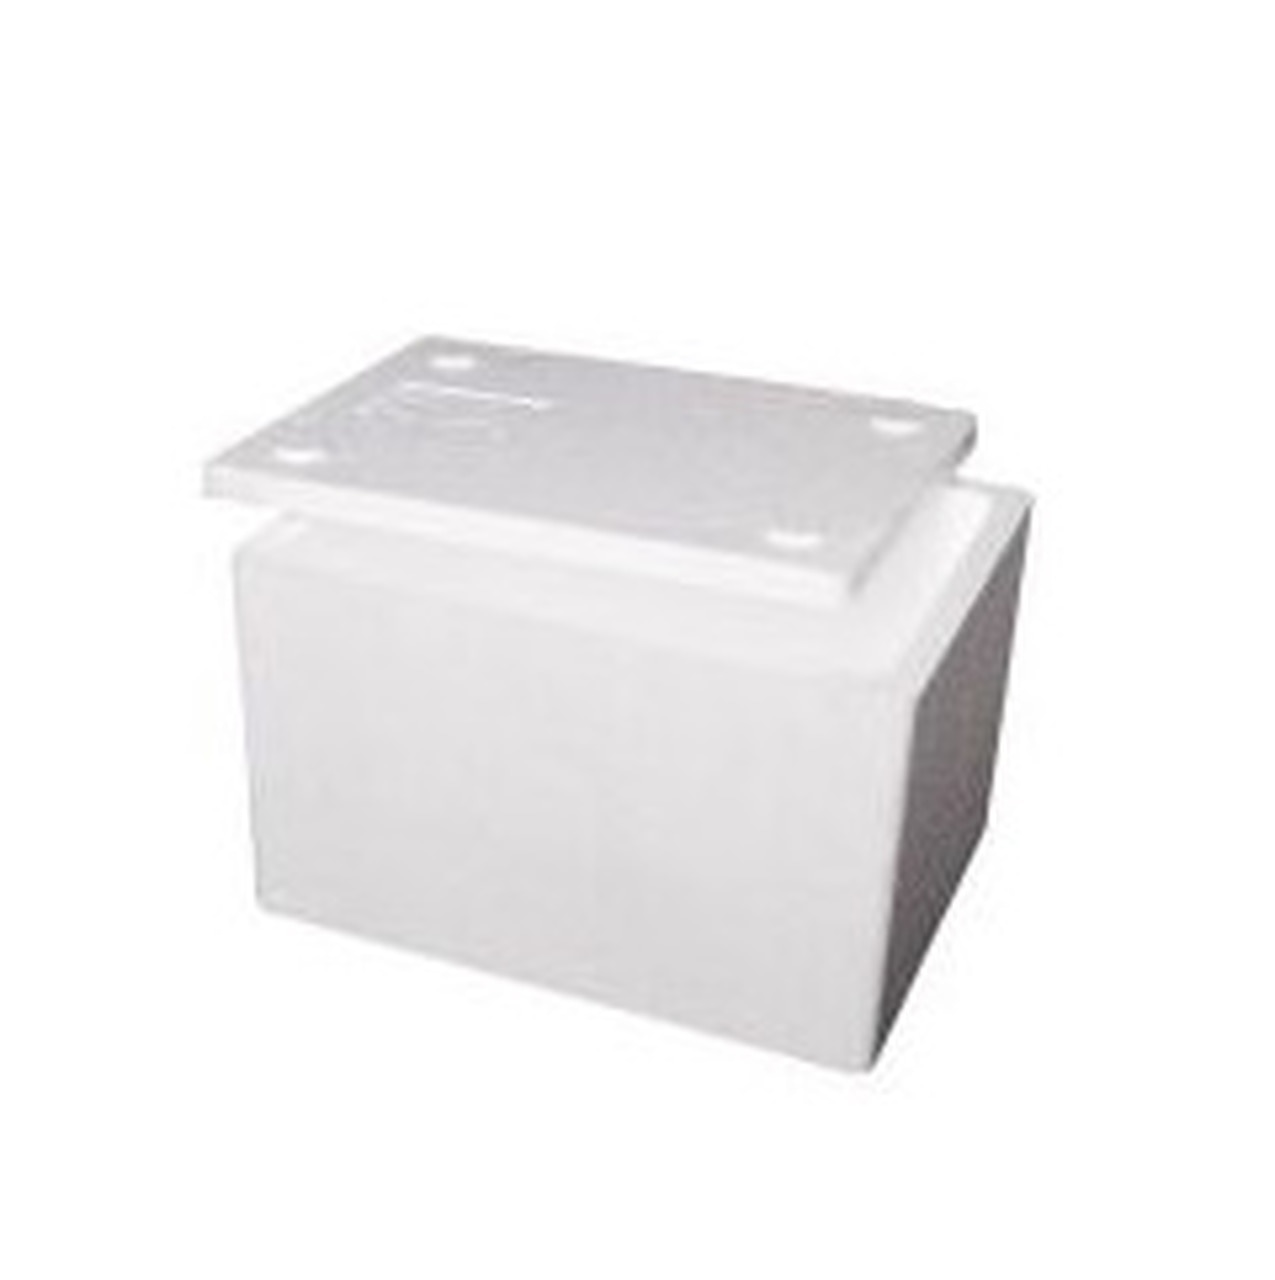Foam Box: (190, 326, 1045, 1084)
